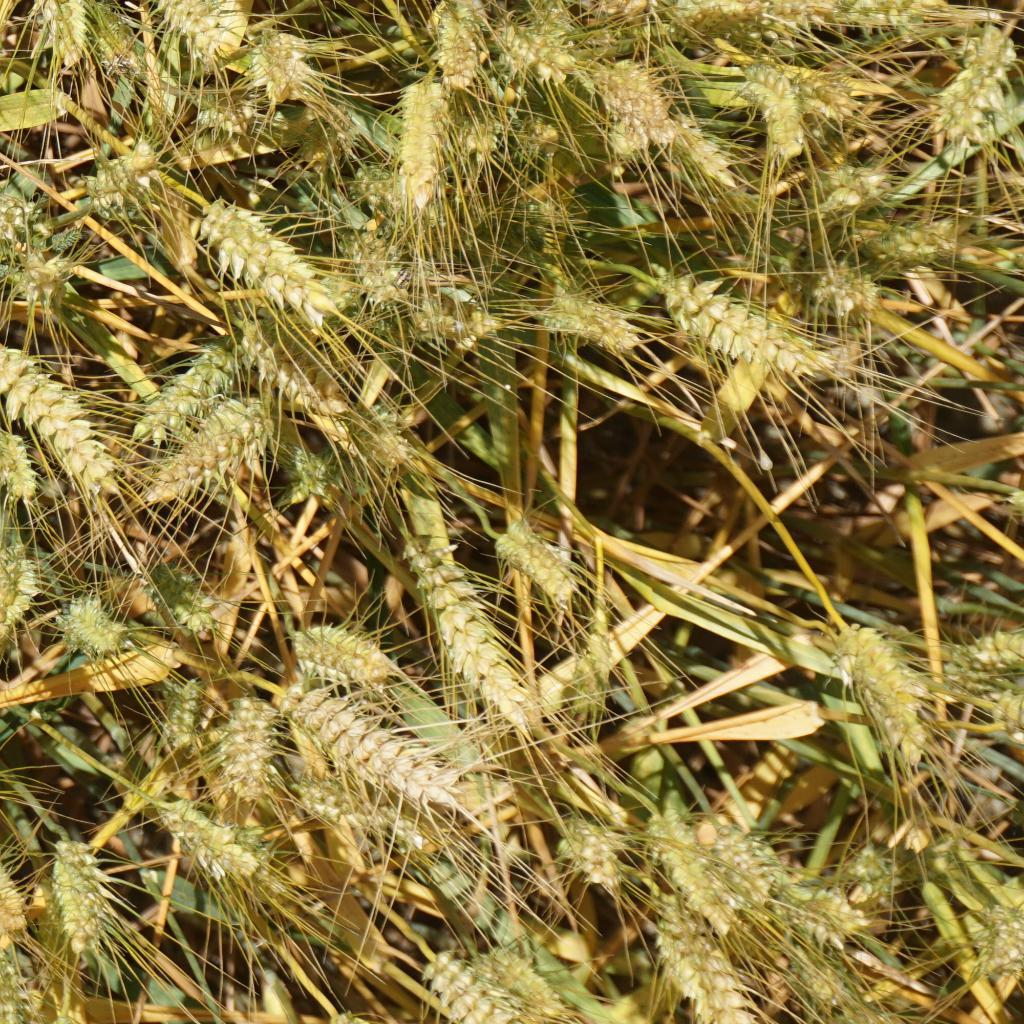0-0: (403, 540, 531, 724), (294, 686, 466, 818), (194, 189, 332, 314), (0, 355, 120, 497), (649, 286, 809, 374), (916, 25, 1022, 153), (345, 157, 476, 246), (284, 625, 422, 707), (835, 612, 915, 747), (649, 913, 748, 1017), (161, 409, 266, 499), (646, 806, 731, 916), (450, 188, 568, 267), (302, 766, 415, 847), (152, 793, 259, 878), (242, 329, 343, 412), (534, 286, 641, 363), (203, 691, 275, 805), (780, 875, 875, 960), (384, 78, 441, 217), (126, 349, 230, 424), (142, 548, 225, 641), (424, 0, 498, 97), (495, 512, 572, 605), (332, 390, 420, 471), (745, 60, 808, 173), (664, 108, 742, 194), (60, 831, 117, 947), (557, 606, 615, 718), (332, 221, 406, 308), (91, 153, 171, 233), (396, 299, 502, 356), (246, 31, 322, 107), (0, 536, 48, 656), (483, 944, 553, 1024), (555, 814, 629, 889), (724, 820, 799, 894), (939, 623, 1024, 688), (831, 838, 913, 905), (502, 16, 572, 94), (55, 593, 134, 662), (186, 76, 262, 145), (814, 148, 888, 217), (287, 438, 345, 524), (593, 52, 665, 121), (145, 0, 239, 51), (453, 70, 505, 162), (293, 105, 371, 165), (87, 14, 155, 82), (425, 944, 484, 1022), (969, 896, 1024, 972), (868, 217, 953, 266), (0, 937, 45, 1022), (678, 0, 772, 38), (147, 674, 201, 740), (0, 841, 34, 945), (809, 61, 867, 121), (774, 0, 927, 22), (817, 260, 873, 319), (28, 0, 99, 46), (598, 100, 646, 168), (13, 254, 76, 305), (573, 0, 656, 33), (504, 110, 566, 153), (0, 430, 36, 502), (0, 198, 43, 248), (983, 685, 1024, 733), (512, 0, 567, 34), (47, 226, 86, 256)
